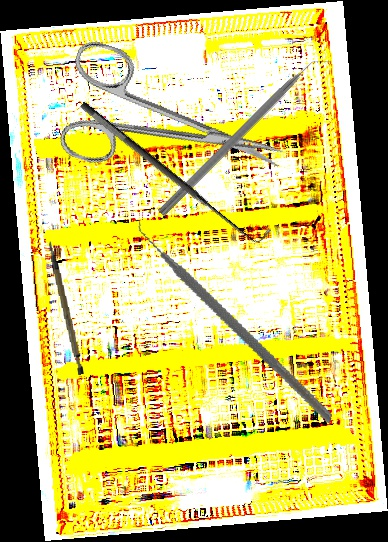Chopper: (104, 205, 369, 424), (157, 48, 335, 226)
Hook Surgical: (77, 87, 273, 254)
Iris Scissors: (46, 36, 298, 219)
Scalpel Handle: (47, 238, 87, 377)
